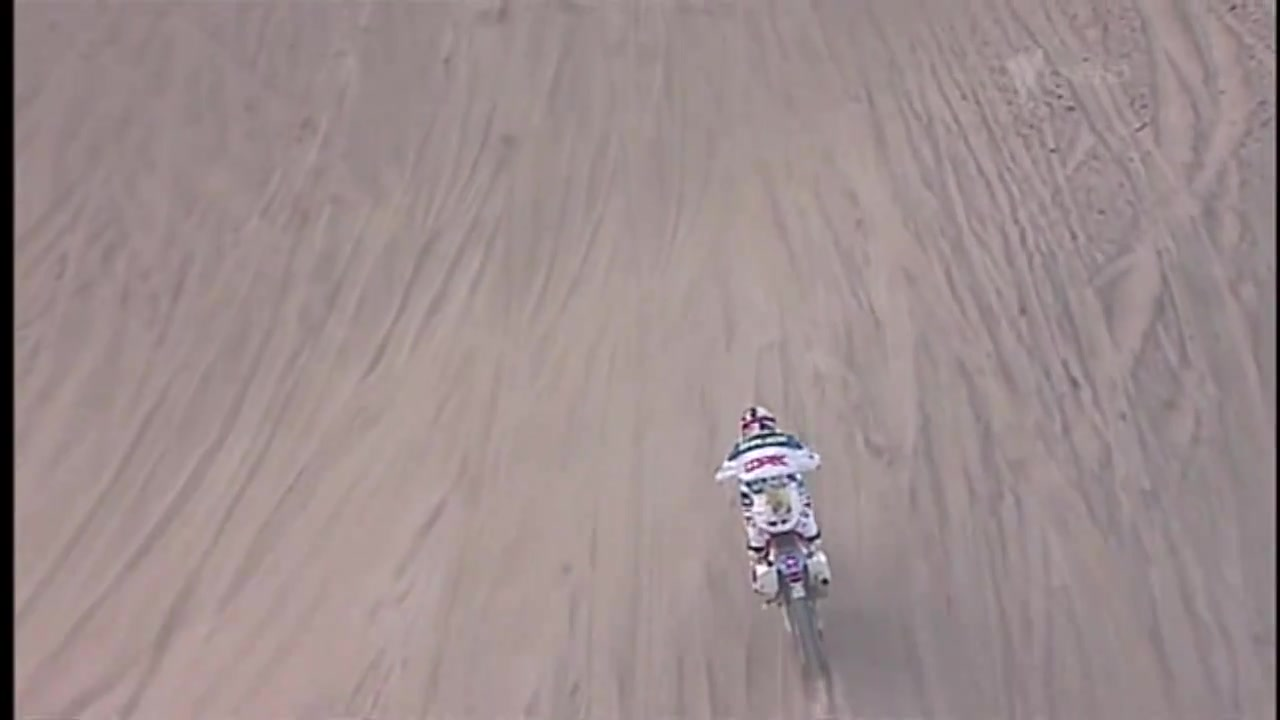motorbike: (715, 430, 834, 679)
